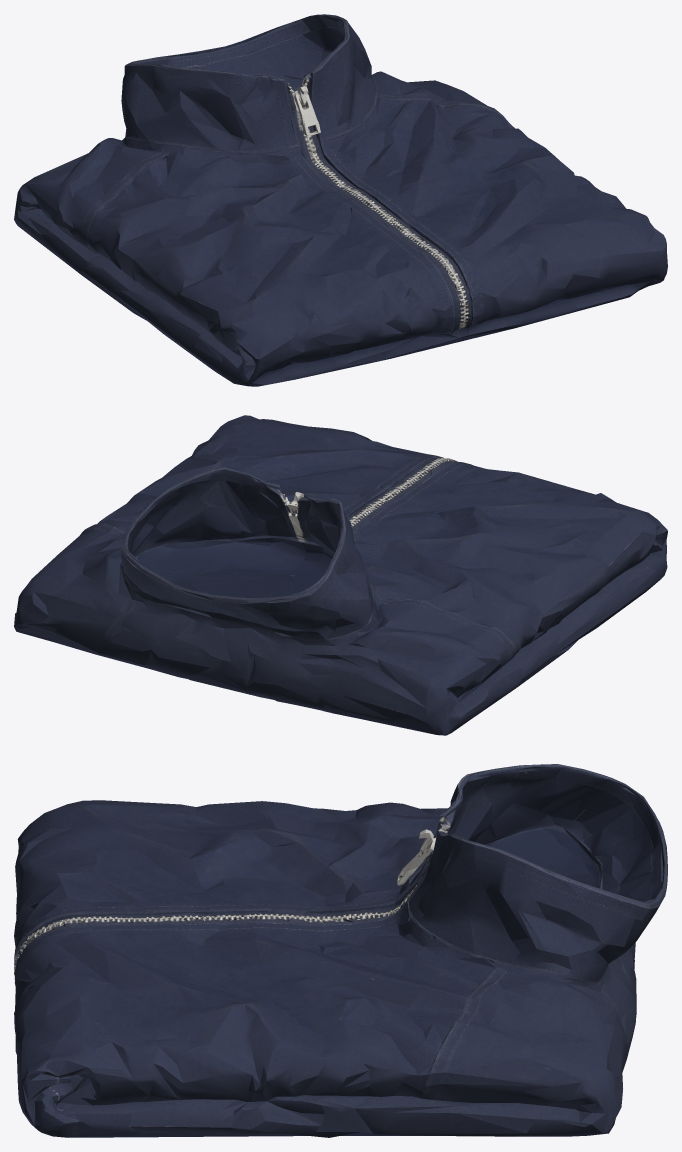
File: remeshed-jacket.glb
3 views of the same model, one above another, from view 1: azimuth 30°, elevation 25°; view 2: azimuth 150°, elevation 25°; view 3: azimuth 270°, elevation 25° (orthographic). The views are drawn at different scales.
Visible parts, largest first — view 1: output_unwrapped; view 2: output_unwrapped; view 3: output_unwrapped.
Boxes of the visible parts, <box> form: output_unwrapped: <box>14,14,667,386</box>; output_unwrapped: <box>14,415,667,735</box>; output_unwrapped: <box>14,764,667,1137</box>.
Size of the model in its own units: 1.88 by 0.6668 by 1.9.
Materials: 1 (1 with a texture image).
